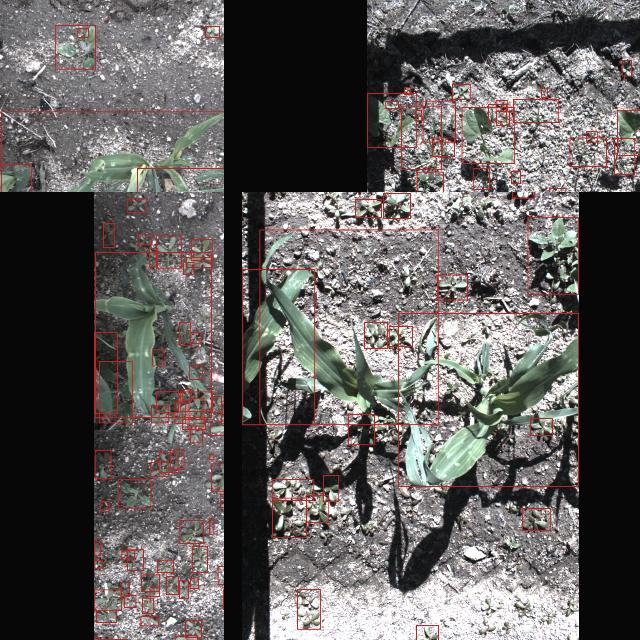crop: (260, 230, 438, 424), (399, 314, 579, 486), (95, 252, 211, 418), (1, 111, 224, 192), (242, 269, 314, 425), (462, 107, 514, 163), (366, 93, 416, 147), (94, 332, 116, 413), (617, 110, 640, 155)
weed: (528, 216, 578, 294), (401, 106, 441, 170), (100, 361, 132, 423), (54, 25, 96, 69), (422, 100, 456, 142), (272, 498, 306, 538), (570, 138, 606, 166), (514, 100, 558, 122), (296, 589, 320, 629), (118, 479, 150, 508), (271, 480, 313, 500), (437, 274, 467, 300), (348, 415, 374, 445), (156, 236, 180, 268), (615, 138, 635, 174), (384, 194, 411, 218), (180, 391, 212, 411), (364, 322, 388, 348), (522, 508, 550, 530), (179, 520, 203, 544), (306, 496, 328, 522), (417, 172, 443, 192), (94, 590, 120, 610), (388, 326, 412, 346), (355, 199, 381, 217), (94, 451, 110, 479), (188, 398, 204, 426), (156, 392, 178, 412), (192, 546, 208, 572), (158, 453, 178, 473), (192, 240, 212, 260), (432, 138, 454, 156), (531, 418, 553, 436), (324, 476, 338, 502), (473, 168, 489, 190), (211, 463, 224, 490), (416, 625, 438, 640), (488, 104, 506, 122), (141, 574, 159, 592), (127, 550, 143, 570), (452, 84, 470, 100), (102, 223, 114, 247), (185, 620, 201, 638), (150, 406, 168, 422), (126, 199, 146, 213), (170, 450, 184, 470), (186, 258, 212, 268), (150, 462, 168, 476), (174, 402, 186, 423), (180, 322, 190, 346), (96, 610, 116, 622), (182, 419, 205, 429), (166, 577, 178, 595), (210, 420, 224, 435), (496, 112, 510, 126), (188, 366, 202, 380), (157, 561, 173, 573), (152, 350, 164, 366), (142, 598, 154, 614), (140, 616, 158, 626), (622, 60, 632, 76), (212, 396, 222, 412), (205, 27, 219, 38), (137, 233, 151, 244), (149, 248, 157, 266), (190, 430, 202, 442), (180, 580, 188, 598), (124, 596, 136, 608), (120, 582, 130, 596), (190, 332, 202, 343), (496, 101, 508, 111), (122, 550, 134, 560), (183, 263, 193, 275), (174, 635, 197, 640), (218, 566, 224, 584), (78, 28, 88, 38), (587, 132, 597, 142), (181, 390, 191, 400), (512, 171, 520, 183), (94, 542, 100, 556), (550, 187, 566, 192), (100, 502, 108, 512), (190, 579, 198, 589), (149, 588, 159, 596), (540, 89, 548, 98), (386, 102, 398, 108), (94, 560, 102, 568), (415, 110, 421, 120), (209, 520, 213, 534), (404, 88, 410, 94), (208, 454, 214, 460), (93, 638, 98, 640)
